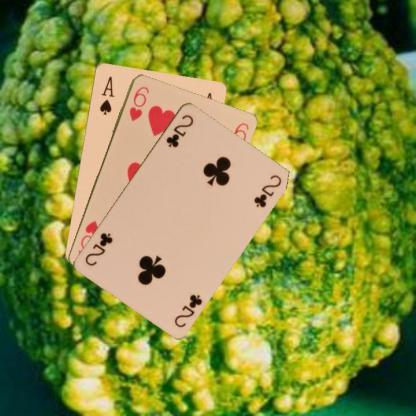2c: (172, 290, 204, 328), (163, 112, 195, 148)
6h: (126, 83, 150, 123)
As: (96, 74, 114, 116)
